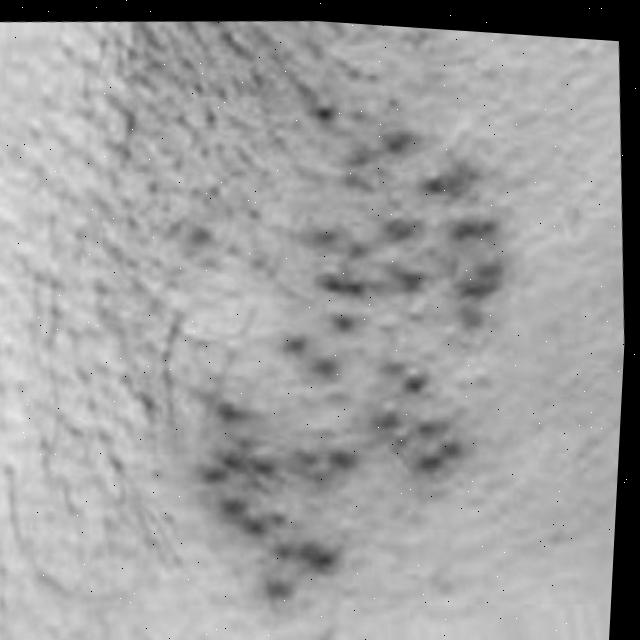Shingles: (168, 86, 538, 621)
